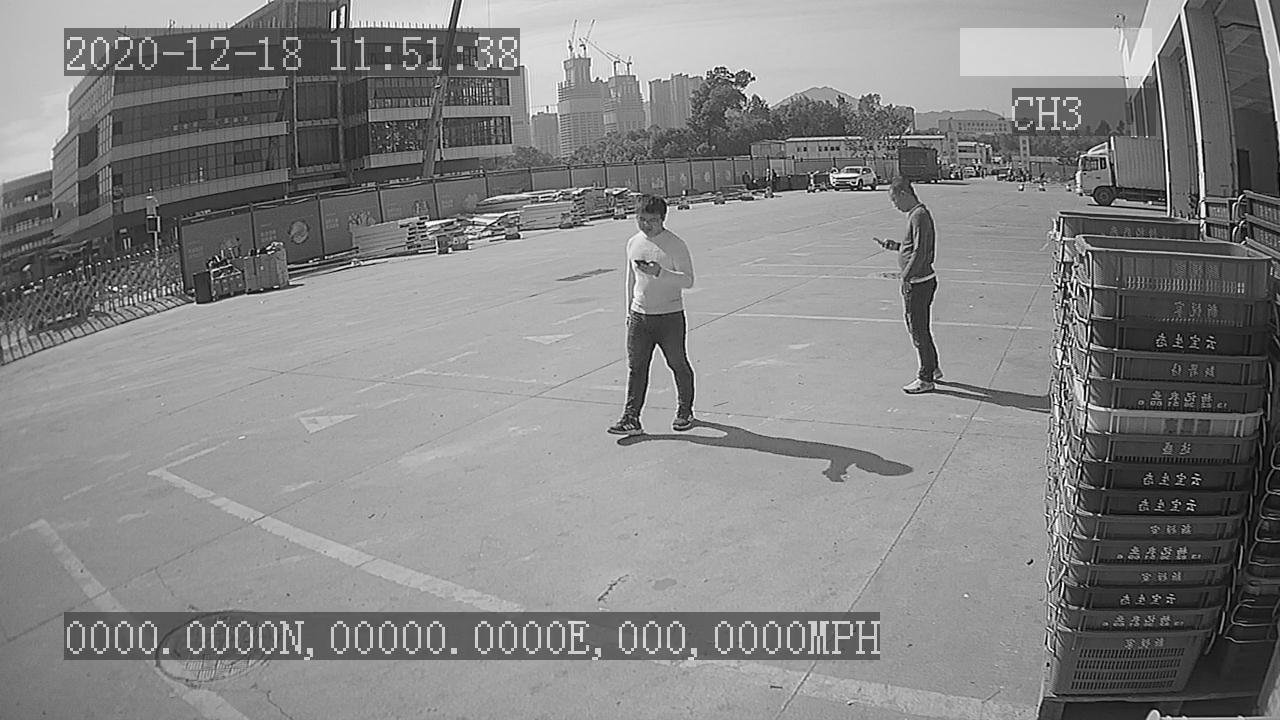person: (599, 192, 704, 444), (865, 174, 951, 403)
